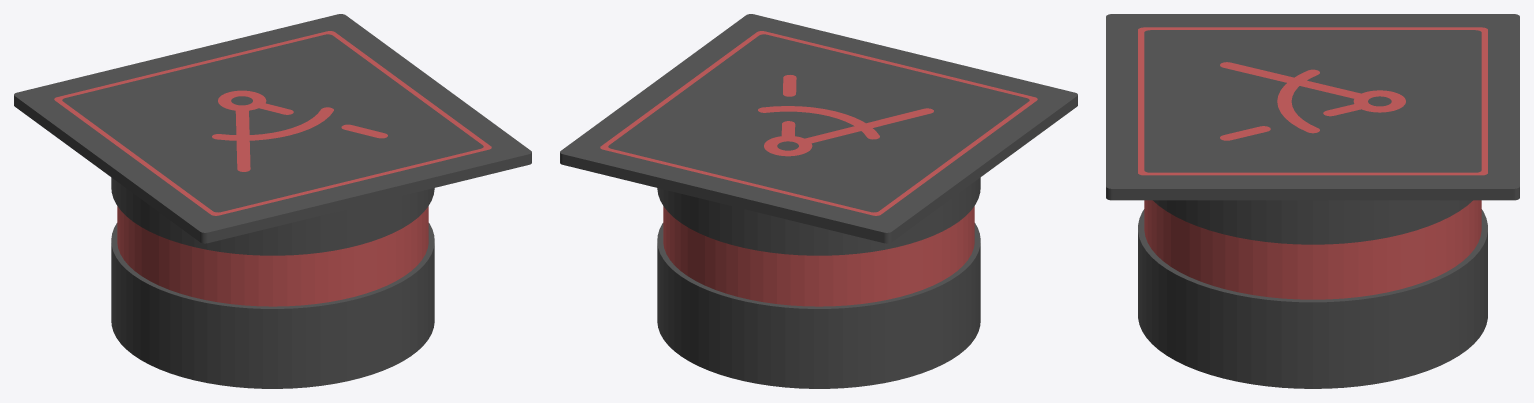
The model's file is bomboniera-architettura-facolta-montato.glb.
3 renders of one model, left to right at view 1: azimuth 30°, elevation 25°; view 2: azimuth 150°, elevation 25°; view 3: azimuth 270°, elevation 25°, orthographic. The views are drawn at different scales.
Parts seen in each view (by area): view 1: struttura_coperchio, struttura_base, fascia, bordo, simbolo_intarsio; view 2: struttura_coperchio, struttura_base, fascia, bordo, simbolo_intarsio; view 3: struttura_coperchio, struttura_base, fascia, bordo, simbolo_intarsio.
Boxes of the visible parts, left/top/right/bottom form: struttura_coperchio: left=14, top=14, right=531, bottom=255; struttura_base: left=111, top=223, right=434, bottom=388; fascia: left=117, top=206, right=428, bottom=306; bordo: left=54, top=31, right=491, bottom=215; simbolo_intarsio: left=212, top=90, right=387, bottom=171; struttura_coperchio: left=560, top=14, right=1077, bottom=255; struttura_base: left=657, top=223, right=980, bottom=388; fascia: left=663, top=206, right=974, bottom=306; bordo: left=600, top=31, right=1037, bottom=215; simbolo_intarsio: left=758, top=75, right=933, bottom=156; struttura_coperchio: left=1106, top=14, right=1519, bottom=244; struttura_base: left=1138, top=209, right=1487, bottom=388; fascia: left=1144, top=200, right=1481, bottom=299; bordo: left=1138, top=27, right=1487, bottom=175; simbolo_intarsio: left=1220, top=62, right=1405, bottom=140.
Bounding box in the file's own units: 0.065 × 0.037 × 0.065.
